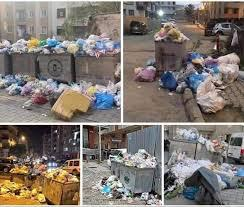Container: (76, 56, 115, 86), (38, 53, 74, 81), (45, 177, 80, 205), (122, 166, 155, 192), (155, 41, 185, 69), (10, 55, 39, 74), (171, 139, 197, 156), (197, 146, 220, 162), (11, 173, 31, 185), (111, 161, 125, 178), (0, 54, 11, 75)
Garbage: (46, 85, 122, 117), (172, 161, 223, 207), (186, 73, 229, 115), (190, 52, 241, 85), (3, 80, 54, 112), (139, 72, 185, 94), (79, 37, 121, 54), (20, 40, 76, 52), (0, 185, 32, 200), (123, 153, 154, 166), (51, 171, 78, 183), (1, 39, 17, 51), (12, 166, 32, 173)
